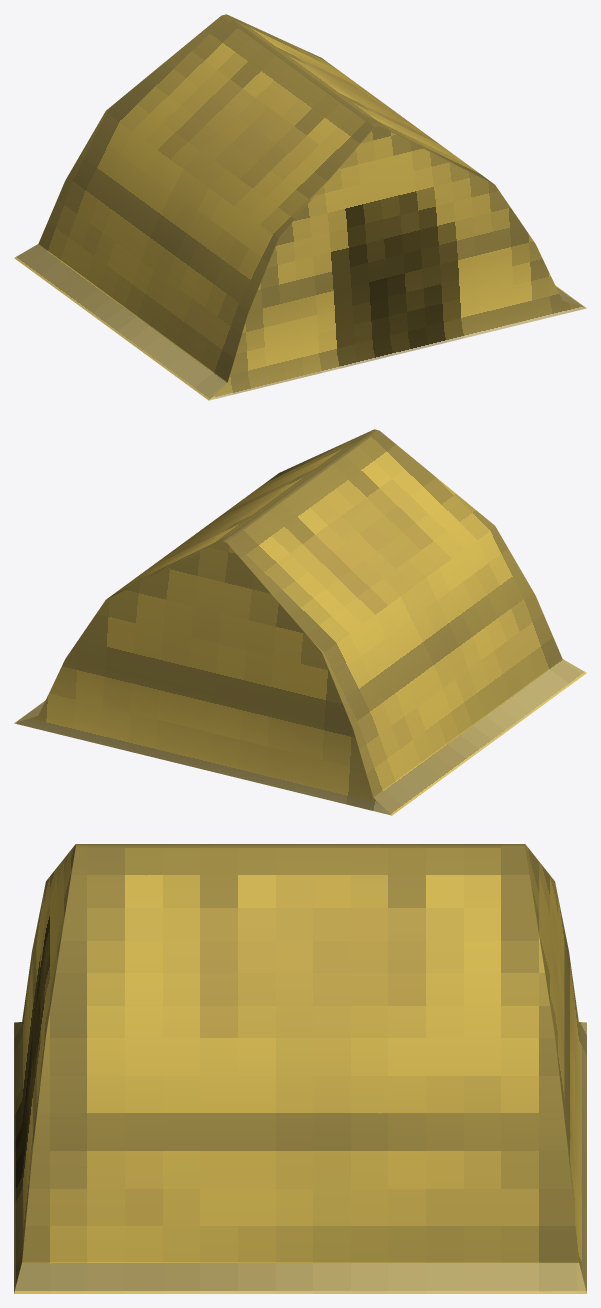
The model's file is Tent.gltf.
The picture shows the model from 3 angles, top to bottom: view 1: azimuth 30°, elevation 25°; view 2: azimuth 150°, elevation 25°; view 3: azimuth 270°, elevation 25°; orthographic projection. The views are drawn at different scales.
Visible parts, largest first — view 1: tent; view 2: tent; view 3: tent.
Boxes of the visible parts, x1,y1,x2,y2 form: tent: (14, 14, 586, 400); tent: (14, 429, 586, 815); tent: (14, 844, 586, 1293).
Bounding box in the file's own units: 13.06 × 7.01 × 11.65.
Materials: 1 (1 with a texture image).
